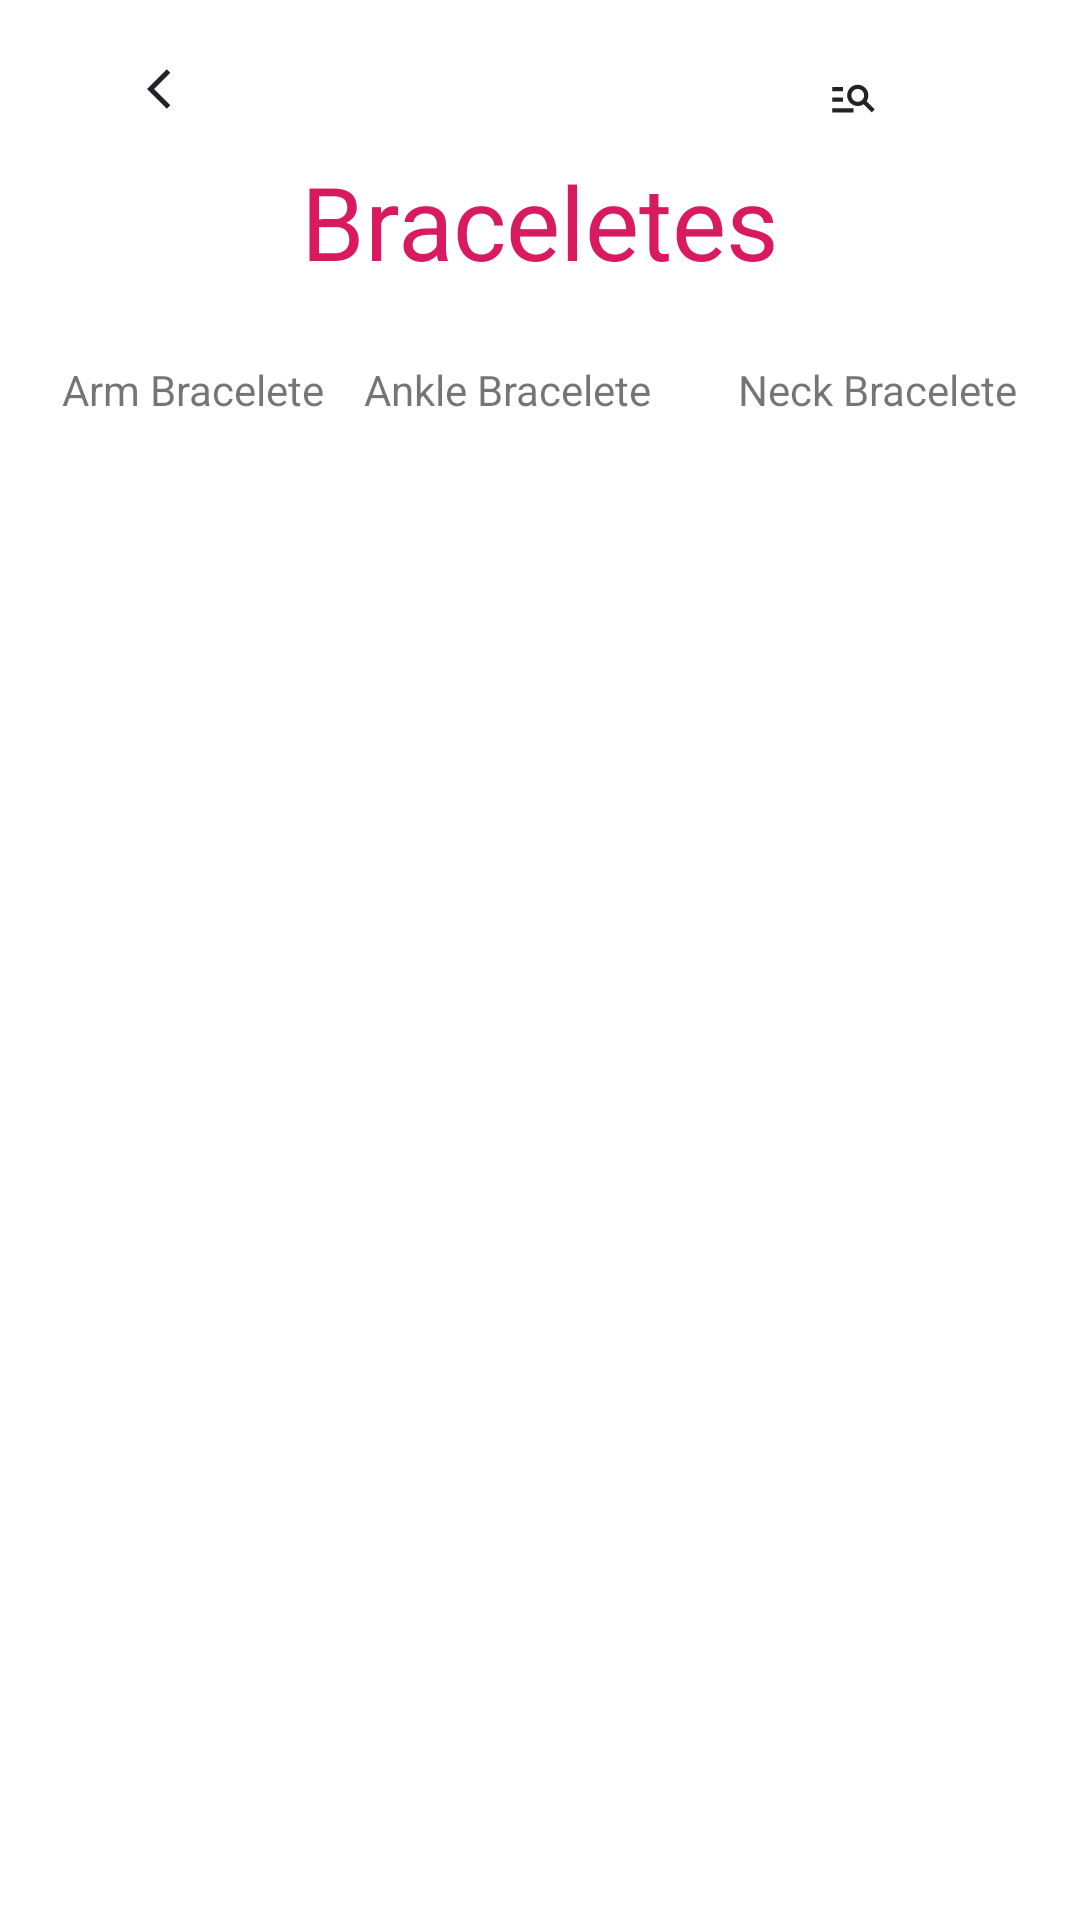

Screen size 1080px x 1920px. Icon name, then its box in pixels as [left=x1, top=y1, right=x2, bottom=y2]:
arrow back: [left=147, top=69, right=170, bottom=109]
manage search: [left=832, top=84, right=875, bottom=113]
